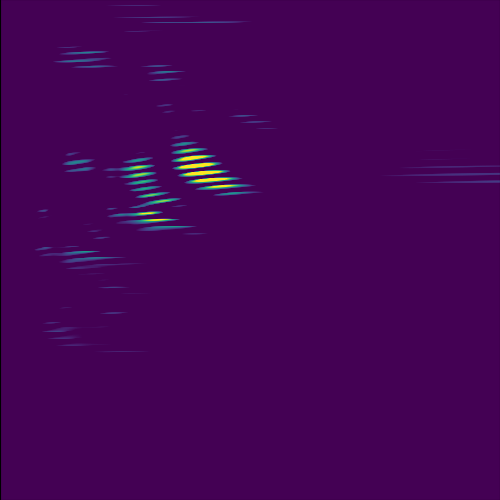semblance: (169, 140, 247, 198)
